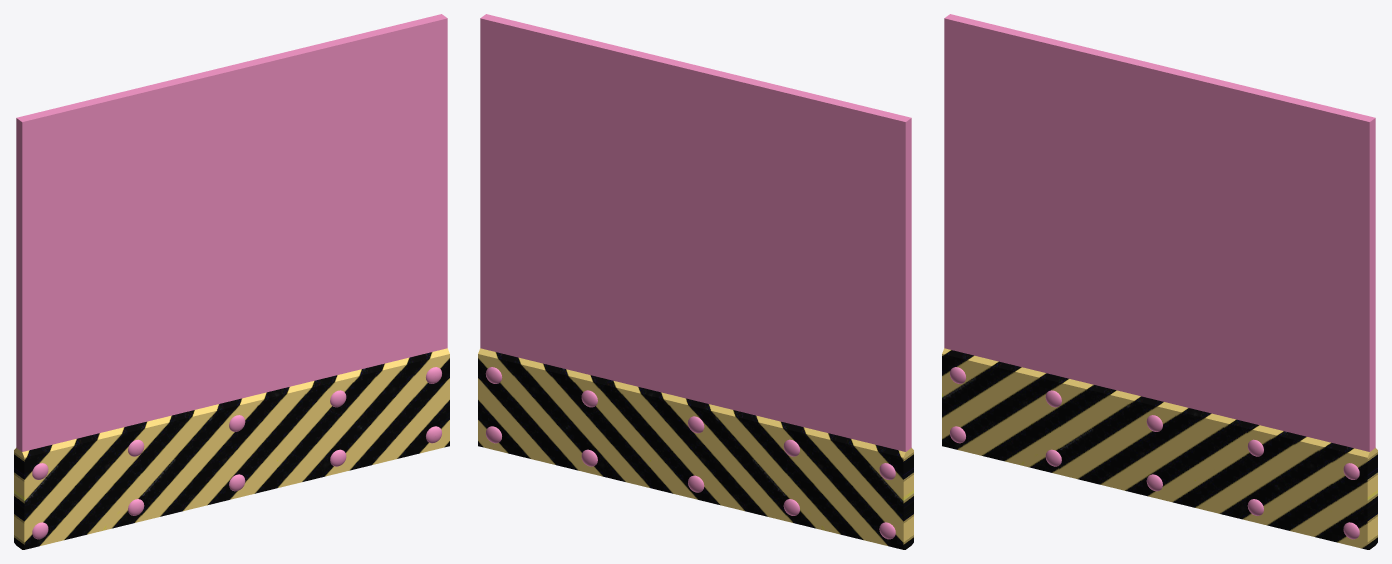
File: Door1high_anim.fbx
3 views of the same model, side by side, from view 1: azimuth 30°, elevation 25°; view 2: azimuth 150°, elevation 25°; view 3: azimuth 330°, elevation 25° (orthographic).
Visible parts, largest first — view 1: polySurface18; view 2: polySurface18; view 3: polySurface18.
Boxes of the visible parts, x1,y1,x2,y2 form: polySurface18: [14, 14, 449, 549]; polySurface18: [478, 14, 913, 549]; polySurface18: [942, 14, 1377, 549].
Bounding box in the file's own units: 413 × 397 × 23.55.
1 material, 1 textured.
